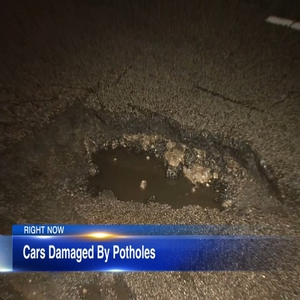pothole: (42, 107, 287, 227)
